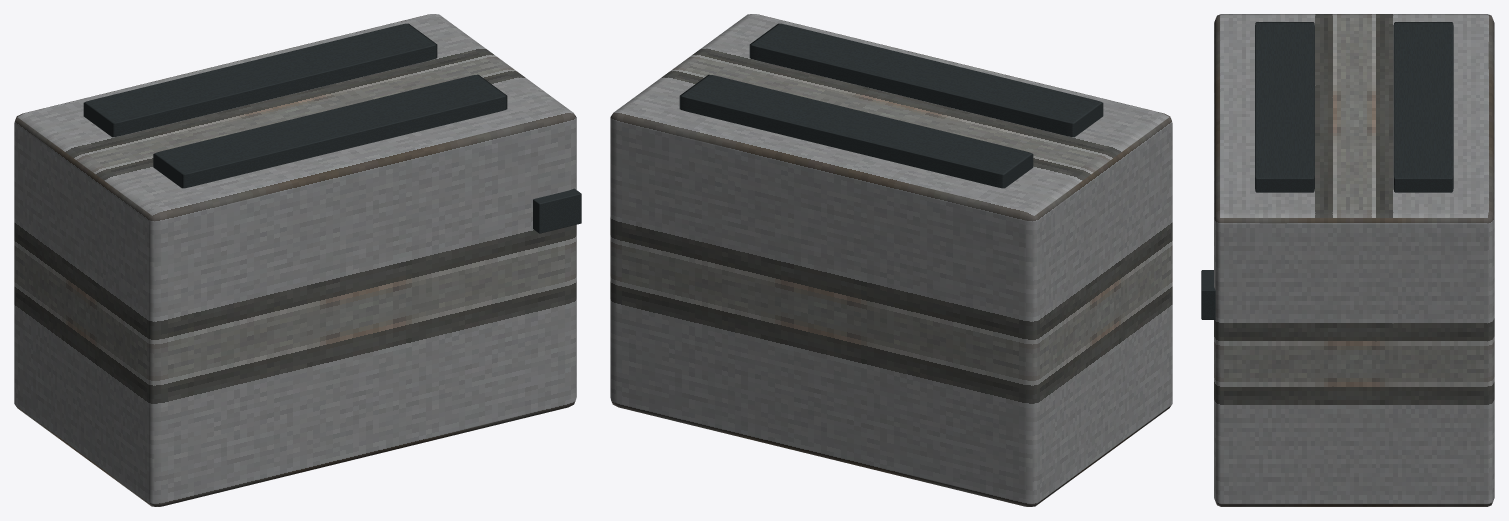
Rendered from toaster.glb.
3 renders of one model, left to right at view 1: azimuth 30°, elevation 25°; view 2: azimuth 150°, elevation 25°; view 3: azimuth 270°, elevation 25°, orthographic.
Parts seen in each view (by area): view 1: case, bread-slot (×2), lift; view 2: case, bread-slot (×2); view 3: case, bread-slot (×2), lift.
Part boxes in pixels (x1=…): case: x1=14, y1=14, x2=576, y2=506; bread-slot (×2): x1=83, y1=23, x2=507, y2=188; lift: x1=533, y1=188, x2=581, y2=233; case: x1=610, y1=14, x2=1172, y2=506; bread-slot (×2): x1=679, y1=23, x2=1103, y2=188; case: x1=1214, y1=14, x2=1494, y2=506; bread-slot (×2): x1=1255, y1=22, x2=1453, y2=192; lift: x1=1201, y1=270, x2=1215, y2=319.
Size of the model in its own units: 0.28 by 0.1935 by 0.1674.
Materials: 2 (2 with a texture image).
